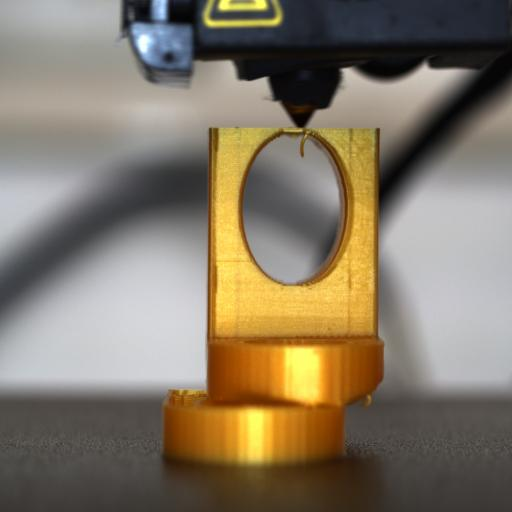layer_shift: (156, 379, 386, 414)
